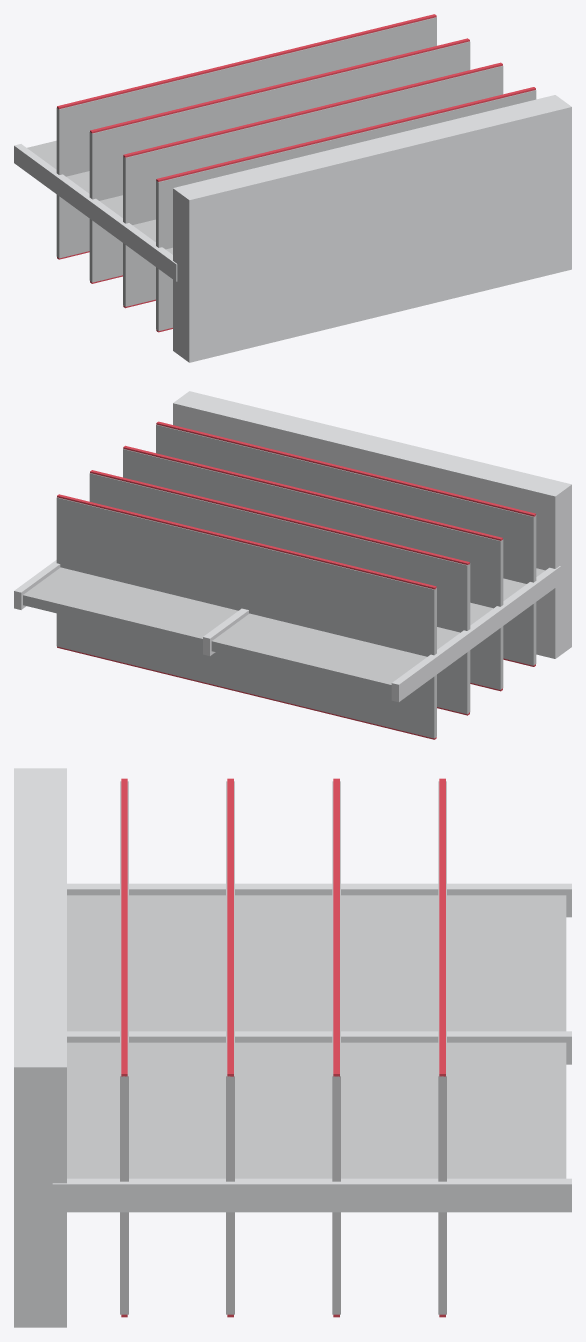
File: gondola_shelf.glb
3 renders of one model, top to bottom at view 1: azimuth 30°, elevation 25°; view 2: azimuth 150°, elevation 25°; view 3: azimuth 270°, elevation 25°, orthographic. The views are drawn at different scales.
Parts seen in each view (by area): view 1: Cube, Cube.010, Cube.014, Cube.006, Cube.002, Cube.018, Cube.012, Cube.016, Cube.008, Cube.015, Cube.003, Cube.007 (+3 smaller); view 2: Cube.014, Cube, Cube.001, Cube.016, Cube.010, Cube.002, Cube.006, Cube.018, Cube.012, Cube.008, Cube.004, Cube.015 (+6 smaller); view 3: Cube.001, Cube, Cube.020, Cube.018, Cube.019, Cube.002, Cube.003, Cube.007, Cube.011, Cube.015, Cube.006, Cube.010 (+5 smaller).
Part boxes in pixels (bbox=[...]): Cube: bbox=[173, 95, 571, 362]; Cube.010: bbox=[89, 41, 470, 200]; Cube.014: bbox=[56, 17, 436, 176]; Cube.006: bbox=[123, 65, 503, 224]; Cube.002: bbox=[156, 90, 536, 249]; Cube.018: bbox=[14, 144, 177, 281]; Cube.012: bbox=[89, 219, 122, 282]; Cube.016: bbox=[56, 194, 89, 258]; Cube.008: bbox=[123, 243, 155, 306]; Cube.015: bbox=[57, 14, 436, 109]; Cube.003: bbox=[156, 87, 535, 181]; Cube.007: bbox=[123, 62, 502, 157]; Cube.014: bbox=[56, 497, 436, 656]; Cube: bbox=[173, 391, 571, 658]; Cube.001: bbox=[23, 567, 545, 694]; Cube.016: bbox=[56, 613, 436, 738]; Cube.010: bbox=[89, 473, 470, 632]; Cube.002: bbox=[156, 424, 536, 583]; Cube.006: bbox=[123, 449, 503, 608]; Cube.018: bbox=[391, 566, 560, 702]; Cube.012: bbox=[437, 650, 470, 714]; Cube.008: bbox=[470, 626, 503, 689]; Cube.004: bbox=[503, 602, 536, 665]; Cube.015: bbox=[57, 494, 436, 589]; Cube.001: bbox=[67, 895, 566, 1178]; Cube: bbox=[14, 768, 66, 1327]; Cube.020: bbox=[52, 1178, 571, 1212]; Cube.018: bbox=[67, 883, 571, 917]; Cube.019: bbox=[67, 1031, 571, 1064]; Cube.002: bbox=[120, 781, 128, 1181]; Cube.003: bbox=[121, 778, 127, 1076]; Cube.007: bbox=[227, 778, 233, 1076]; Cube.011: bbox=[333, 778, 339, 1076]; Cube.015: bbox=[439, 778, 445, 1076]; Cube.006: bbox=[226, 781, 234, 1181]; Cube.010: bbox=[332, 781, 340, 1181].
Bounding box in the file's own units: 3.22 × 1.3 × 2.53.
